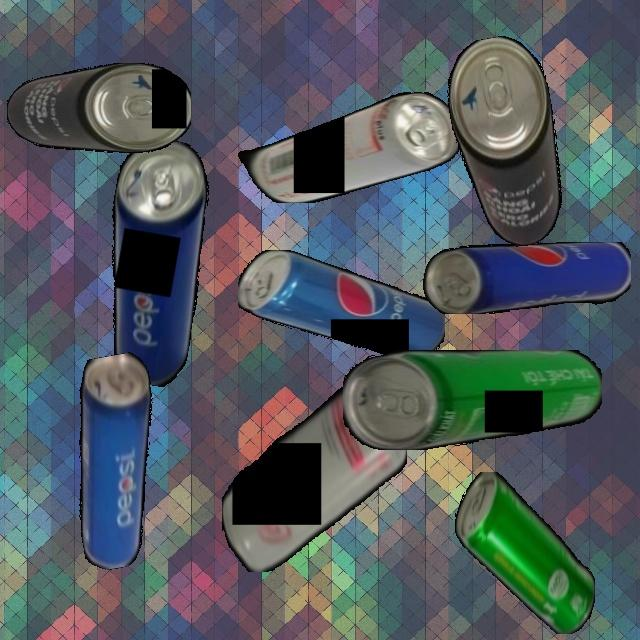debris: (221, 373, 407, 572), (84, 133, 223, 390), (439, 30, 575, 254), (52, 350, 181, 573), (343, 349, 602, 450), (237, 92, 460, 203), (454, 471, 595, 634), (237, 250, 445, 360), (6, 63, 191, 153), (423, 241, 631, 314)
